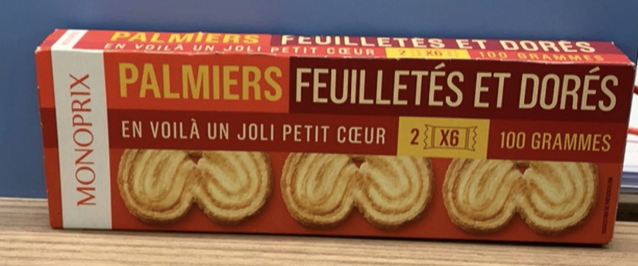cookies_100g-199g: (59, 59, 608, 231)
